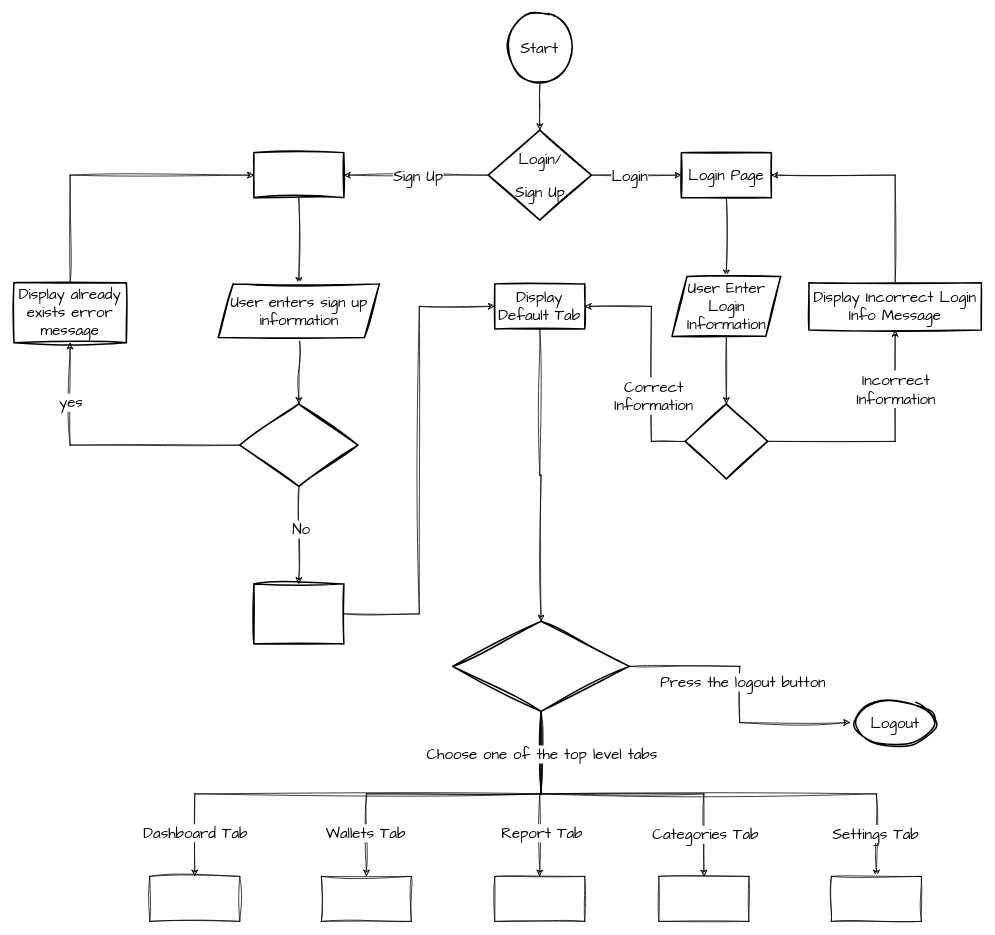
Some shapes in this 995 by 935 pixel diagram are drawn without their labels. The shapes that lost their labels are listed below. From the top down, each one's box as (x1, y1, x2, y2) in pixels, then its label:
(253, 152, 344, 198): Sign Up Page
(239, 403, 358, 487): User info already exists
(684, 403, 768, 479): Check Login Info
(253, 583, 344, 644): Add new user info to database
(452, 620, 630, 712): Choose next top level interaction
